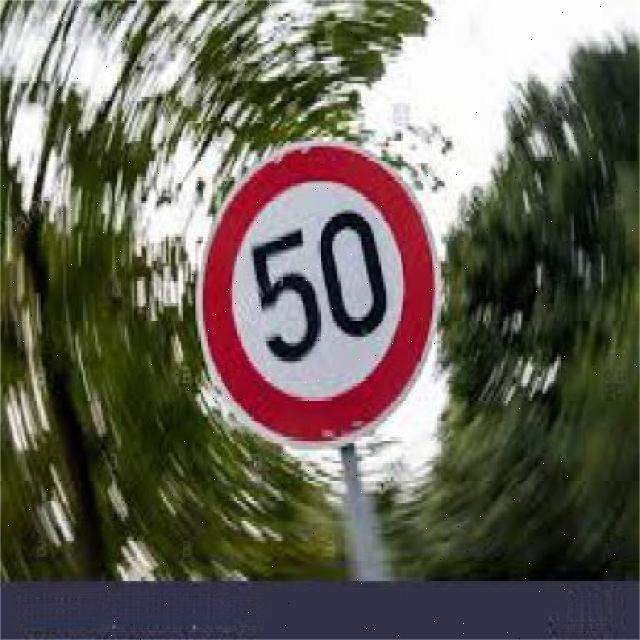speed limit 50: (198, 142, 441, 448)
